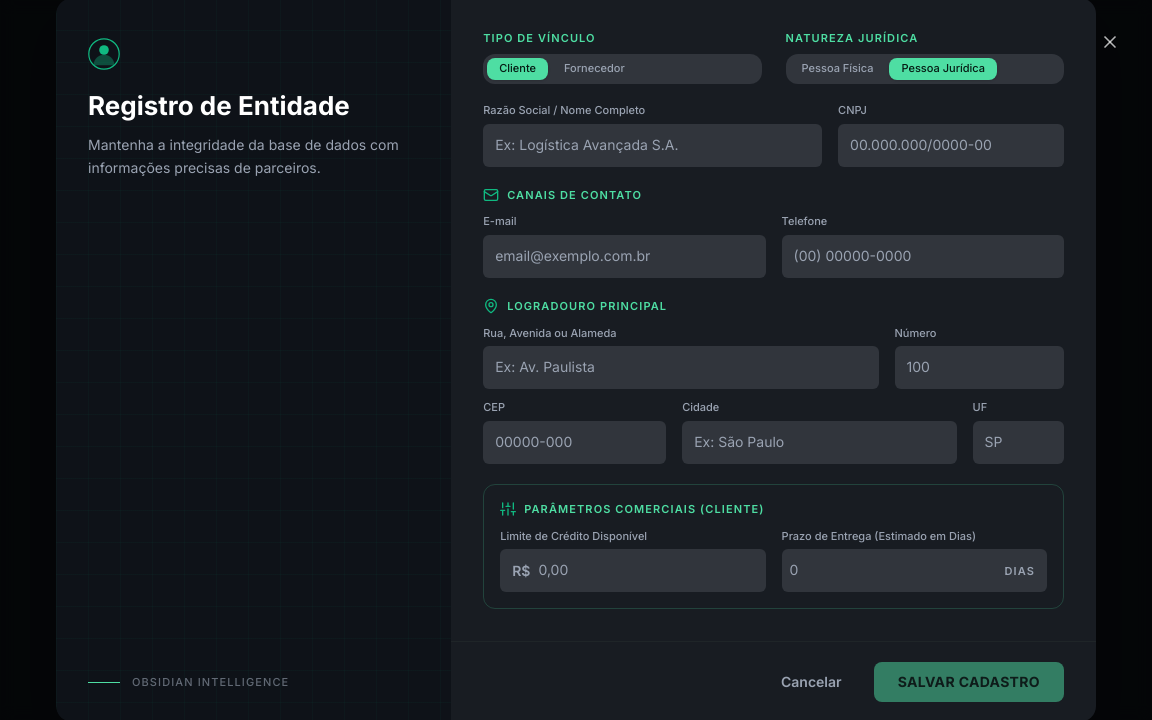
Test: EntityFormModal 3.2 — Campo documento com máscara dinâmica › aplica máscara CNPJ ao digitar como pessoa jurídica
The image size is (1152, 720).
Type "11222333000181" into the field labelled "CNPJ" at (951, 145), box x1=850 y1=124 x2=1052 y2=167
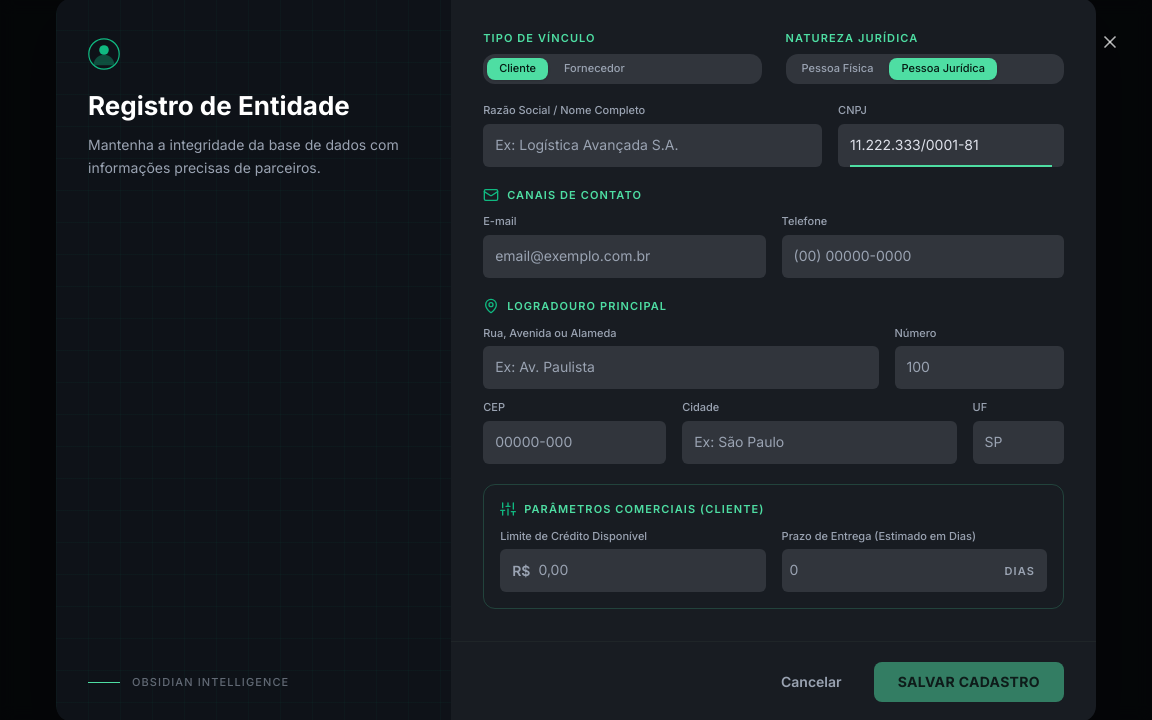
Now the field labelled "CNPJ" holds "11.222.333/0001-81", box x1=850 y1=124 x2=1052 y2=167
